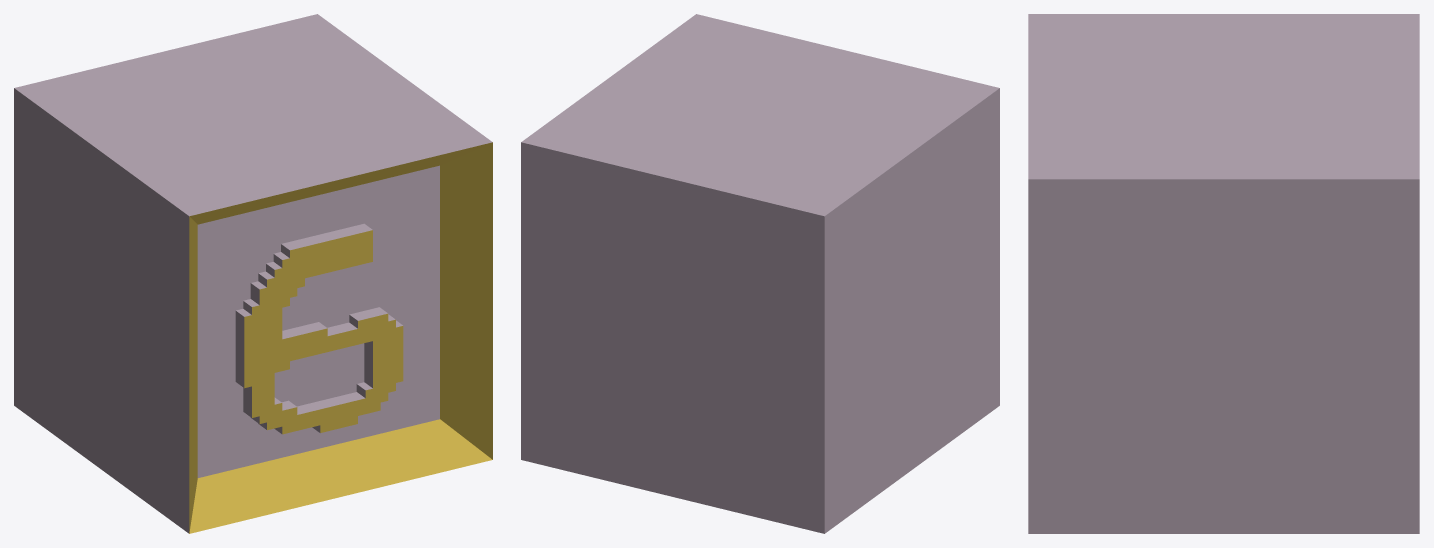
The model's file is Block6.fbx.
3 renders of one model, left to right at view 1: azimuth 30°, elevation 25°; view 2: azimuth 150°, elevation 25°; view 3: azimuth 270°, elevation 25°, orthographic. The views are drawn at different scales.
Parts seen in each view (by area): view 1: Cube; view 2: Cube; view 3: Cube.
Boxes of the visible parts, x1,y1,x2,y2 form: Cube: [14, 14, 492, 533]; Cube: [521, 14, 999, 533]; Cube: [1028, 14, 1419, 533].
Size of the model in its own units: 2000 by 2000 by 2000.
